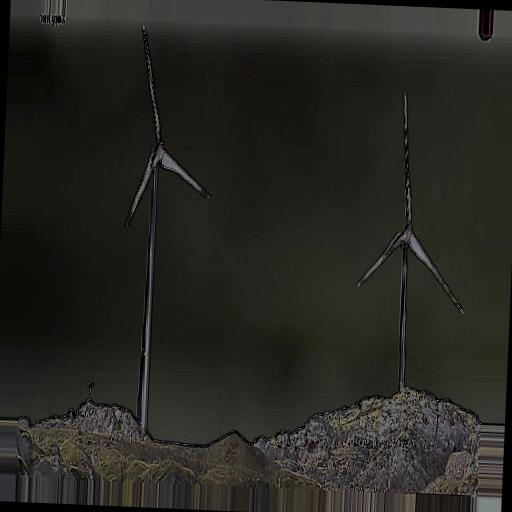wind turbine: (123, 22, 212, 418), (354, 94, 465, 396)
